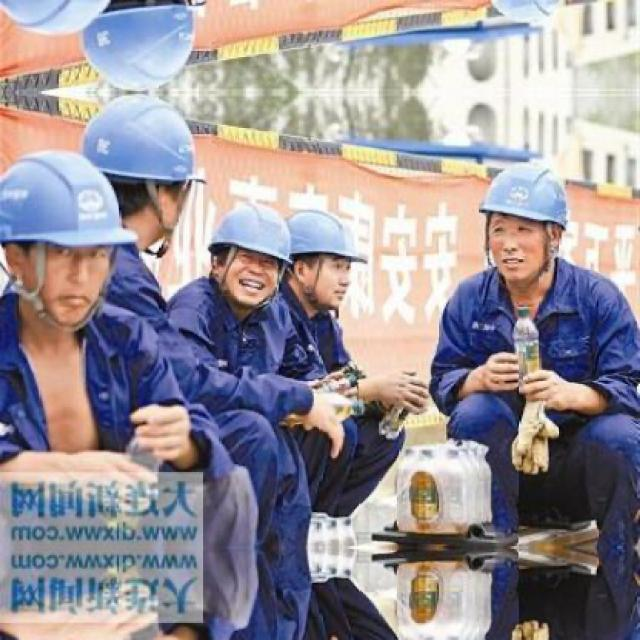helmet: (1, 139, 136, 313), (75, 93, 203, 255), (474, 151, 575, 284), (76, 0, 204, 94), (266, 207, 359, 316), (207, 202, 296, 312), (1, 0, 137, 48), (473, 0, 576, 35)
